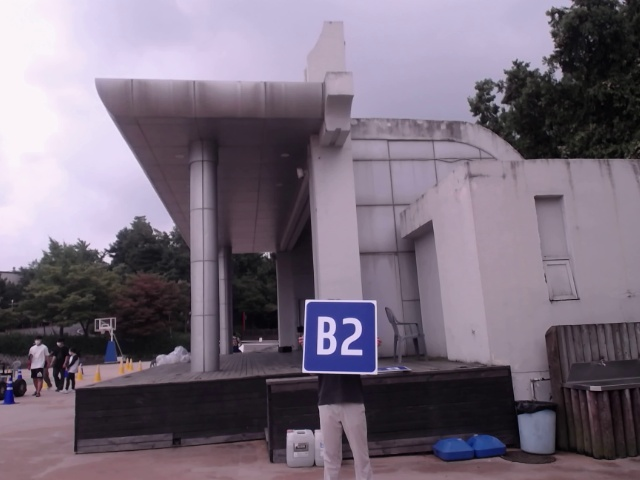delivery_b2: (304, 298, 378, 378)
